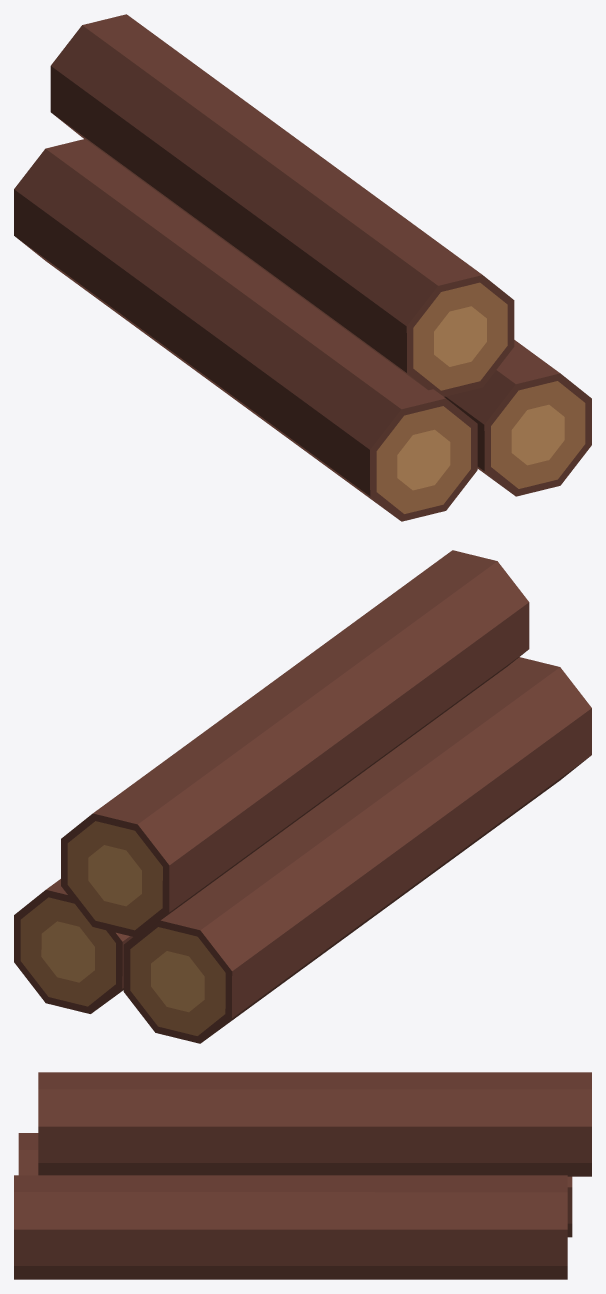
File: deck_(3_pack).fbx
3 views of the same model, one above another, from view 1: azimuth 30°, elevation 25°; view 2: azimuth 150°, elevation 25°; view 3: azimuth 270°, elevation 25° (orthographic). The views are drawn at different scales.
Visible parts, largest first — view 1: Deck.001; view 2: Deck.001; view 3: Deck.001.
Boxes of the visible parts, x1=… form: Deck.001: x1=14, y1=14, x2=591, y2=521; Deck.001: x1=14, y1=550, x2=591, y2=1043; Deck.001: x1=14, y1=1072, x2=591, y2=1279.
Size of the model in its own units: 61.39 by 57.47 by 180.
